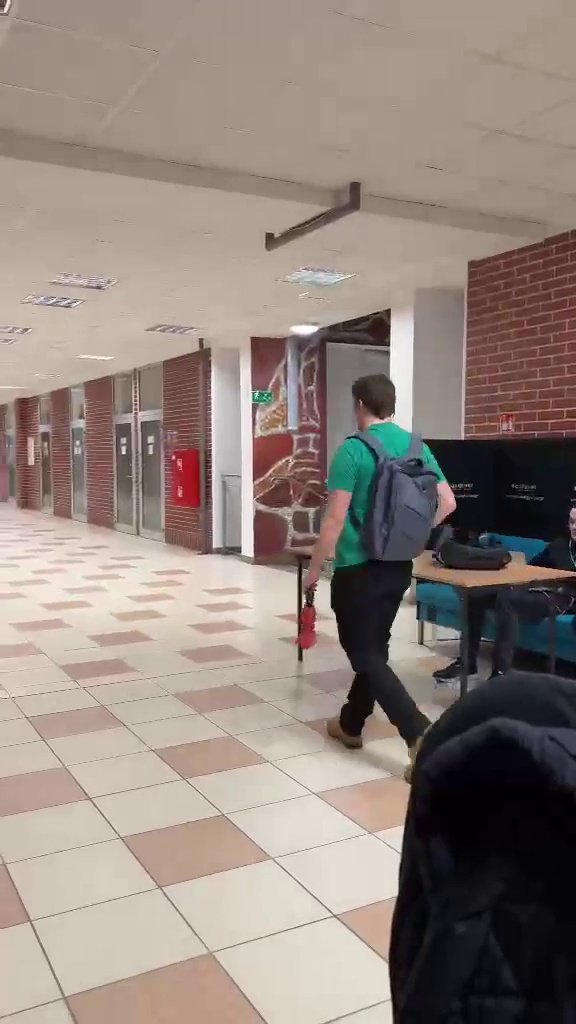no vest: (295, 372, 457, 758)
